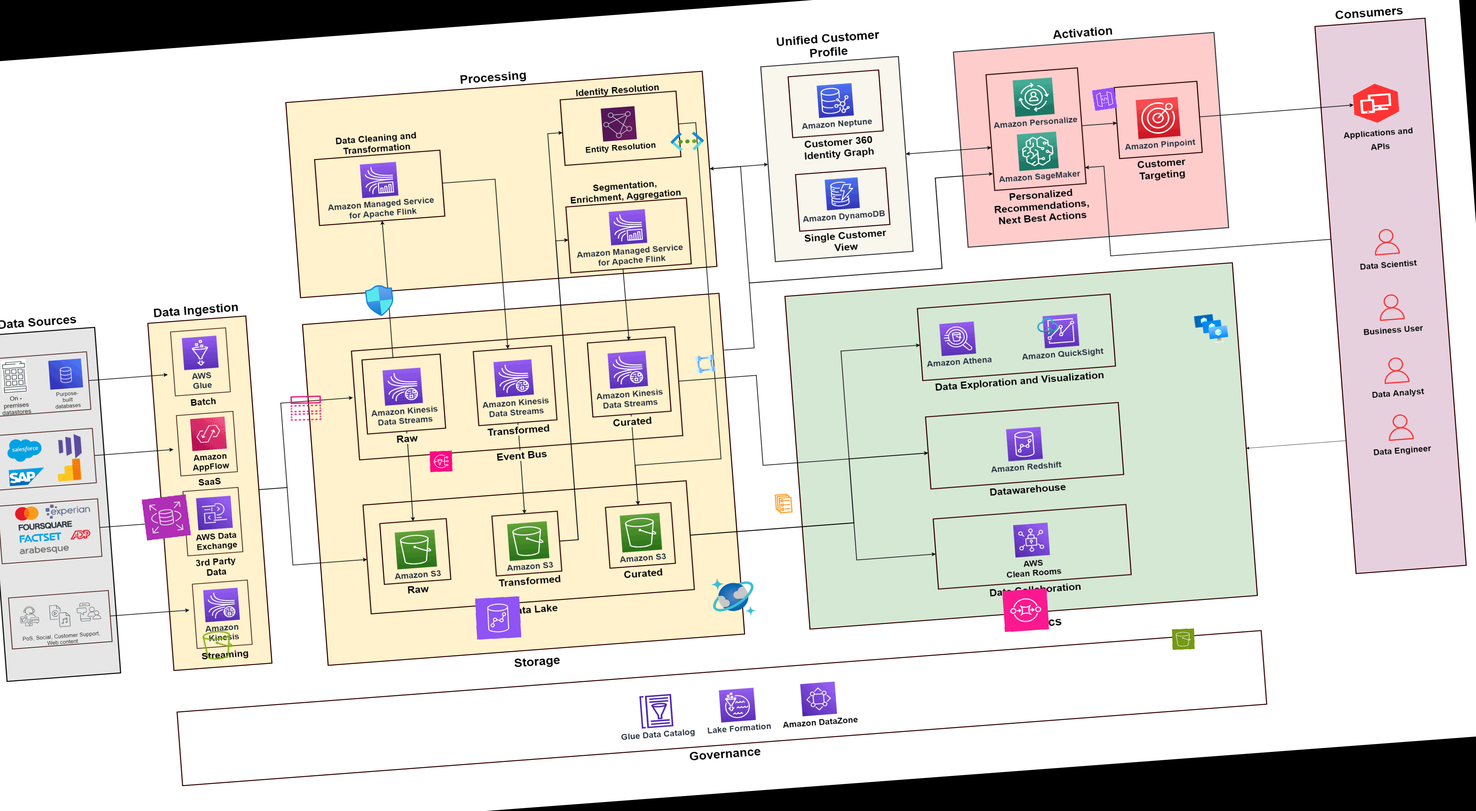aws_amazon_api_gateway: (1091, 87, 1117, 111)
aws_amazon_rds: (141, 494, 191, 541)
aws_amazon_redshift: (474, 595, 522, 641)
aws_amazon_simple_notification_service: (428, 449, 453, 473)
aws_amazon_simple_queue_service: (1001, 588, 1050, 632)
aws_amazon_simple_storage_service: (1171, 627, 1196, 651)
aws_elastic_container_service_service: (771, 492, 796, 515)
aws_simple_notification_service_topic: (287, 390, 324, 426)
aws_simple_storage_service_s3_standard: (200, 628, 236, 662)
azure_api_management_services: (1035, 315, 1060, 338)
azure_cosmos_db: (709, 574, 757, 620)
azure_network_security_groups: (361, 283, 398, 318)
azure_virtual_networks: (669, 124, 706, 159)
azure_vm_scale_sets: (1192, 310, 1229, 346)
gcp_virtual_private_cloud: (692, 352, 717, 376)
